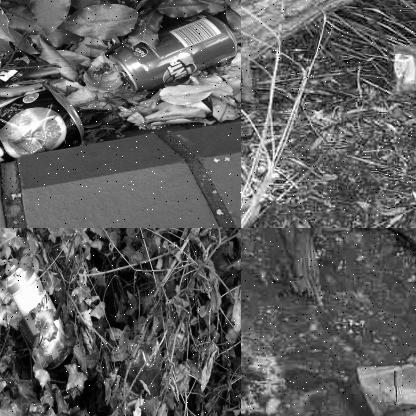metal: (107, 16, 240, 88), (0, 261, 75, 368), (0, 91, 85, 164), (0, 19, 33, 101)
plastic: (126, 334, 159, 415), (389, 39, 415, 99)
